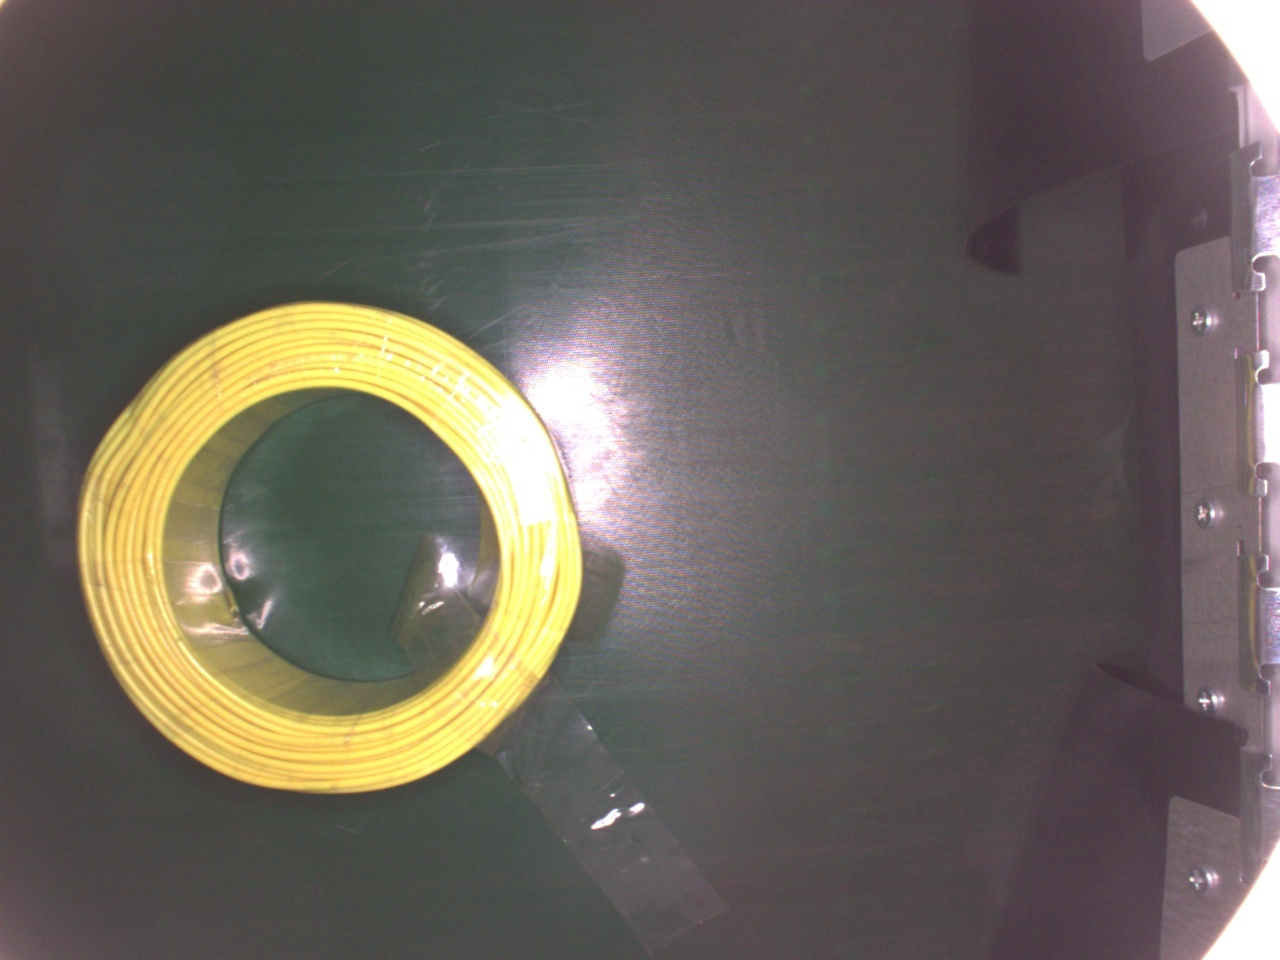yellow: (75, 298, 585, 799)
